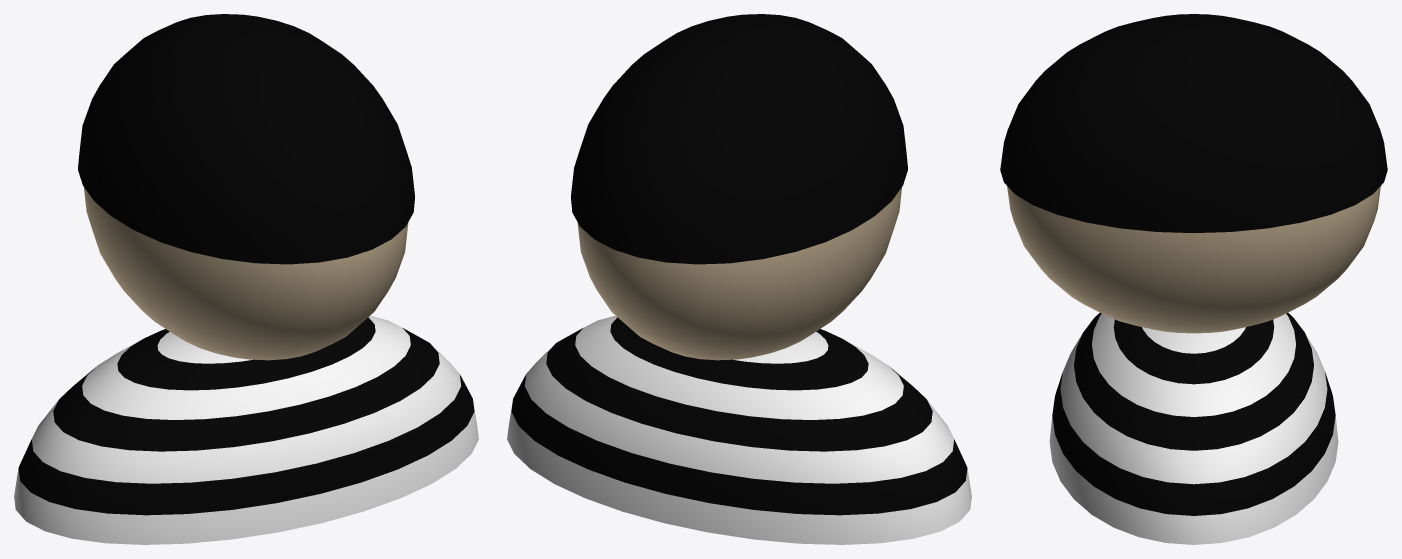
File: Bandit.fbx
3 views of the same model, side by side, from view 1: azimuth 30°, elevation 25°; view 2: azimuth 150°, elevation 25°; view 3: azimuth 270°, elevation 25° (orthographic). The views are drawn at different scales.
Visible parts, largest first — view 1: Sphere.002, Sphere.004, Sphere.003; view 2: Sphere.002, Sphere.004, Sphere.003; view 3: Sphere.004, Sphere.002, Sphere.003.
Boxes of the visible parts, x1=… form: Sphere.002: x1=14, y1=315, x2=478, y2=544; Sphere.004: x1=78, y1=14, x2=414, y2=264; Sphere.003: x1=84, y1=187, x2=408, y2=360; Sphere.002: x1=507, y1=315, x2=971, y2=544; Sphere.004: x1=571, y1=14, x2=907, y2=264; Sphere.003: x1=577, y1=187, x2=901, y2=360; Sphere.004: x1=1000, y1=14, x2=1387, y2=233; Sphere.002: x1=1049, y1=313, x2=1338, y2=544; Sphere.003: x1=1007, y1=186, x2=1380, y2=333.
Bounding box in the file's own units: 200 × 188 × 159.
